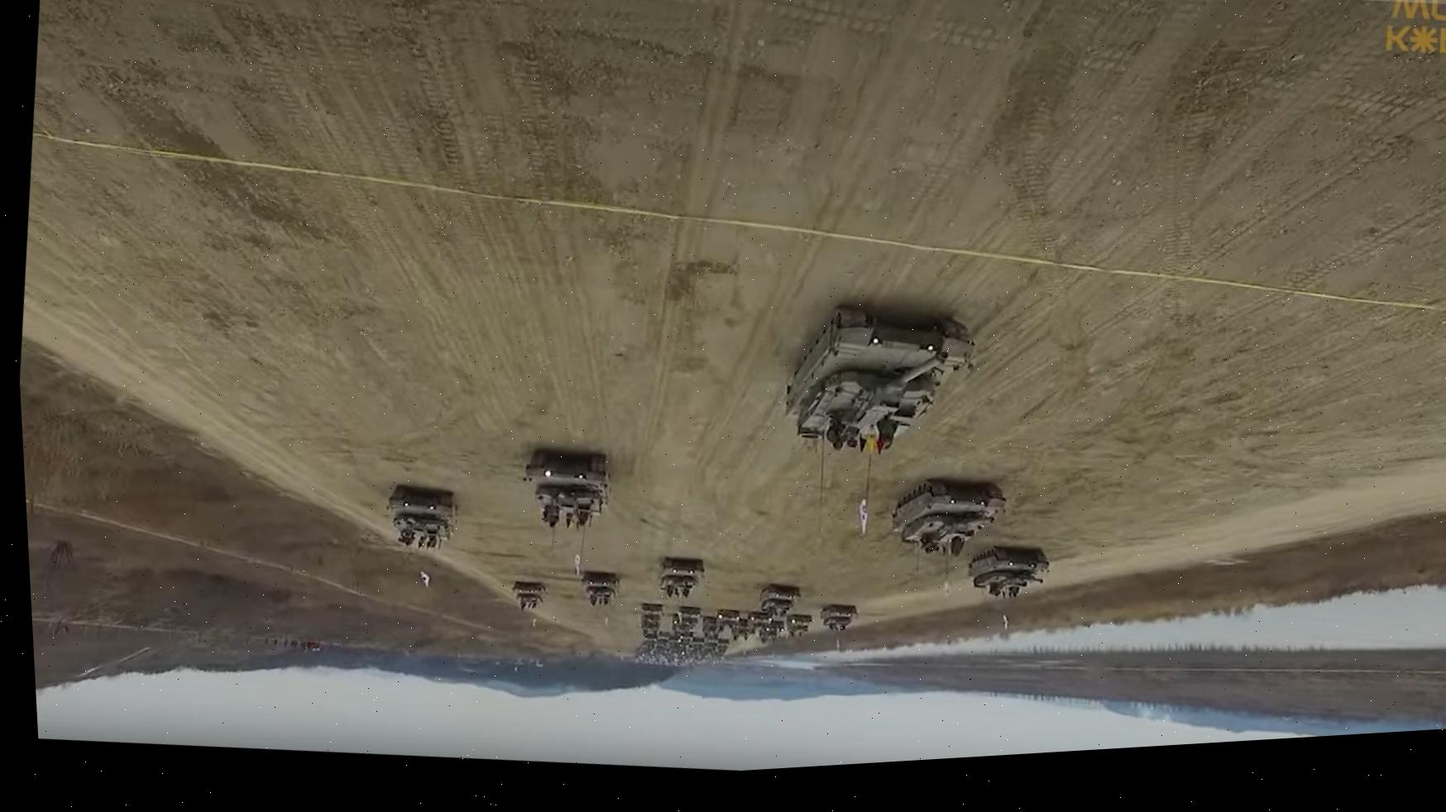tank: (774, 292, 986, 467), (881, 464, 1007, 560), (515, 442, 617, 536), (382, 480, 462, 554), (964, 540, 1054, 604)
